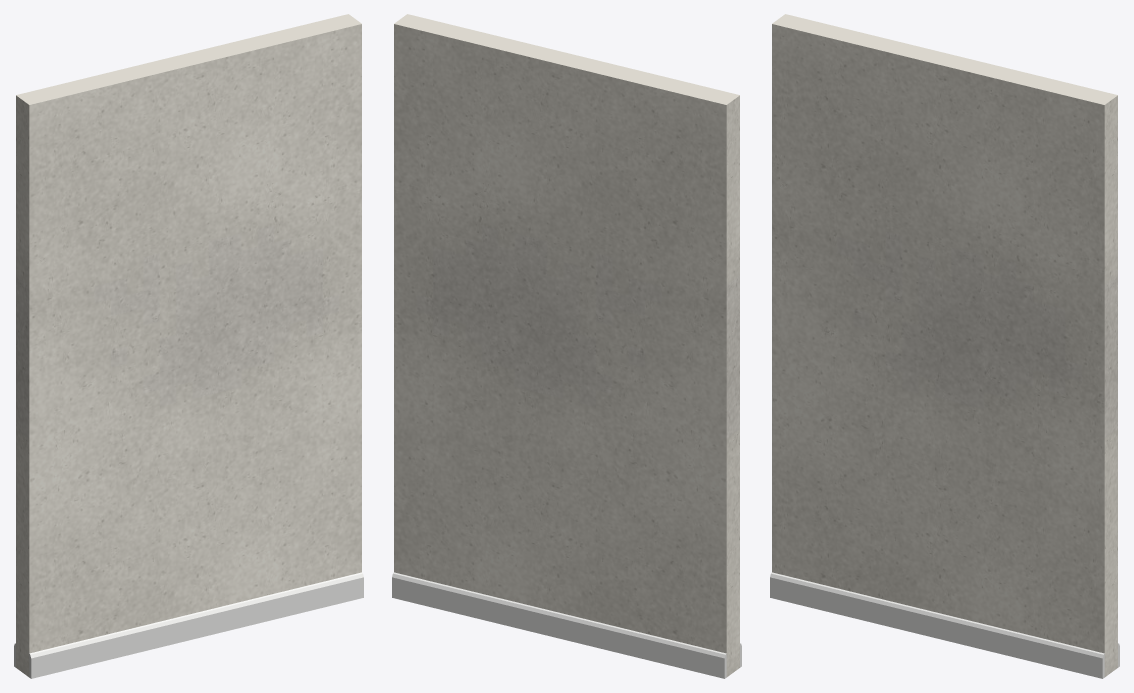
File: iw_end_plain.glb
The picture shows the model from 3 angles, left to right: view 1: azimuth 30°, elevation 25°; view 2: azimuth 150°, elevation 25°; view 3: azimuth 330°, elevation 25°; orthographic projection.
Visible parts, largest first — view 1: iw_end_plain_plaster, iw_end_plain_trim; view 2: iw_end_plain_plaster, iw_end_plain_trim; view 3: iw_end_plain_plaster, iw_end_plain_trim.
Part boxes in pixels (x1=…): iw_end_plain_plaster: x1=16, y1=14, x2=361, y2=677; iw_end_plain_trim: x1=14, y1=572, x2=363, y2=678; iw_end_plain_plaster: x1=394, y1=14, x2=739, y2=677; iw_end_plain_trim: x1=392, y1=572, x2=741, y2=678; iw_end_plain_plaster: x1=772, y1=14, x2=1117, y2=677; iw_end_plain_trim: x1=770, y1=572, x2=1119, y2=678.
Bounding box in the file's own units: 1.7 × 2.8 × 0.152.
2 materials, 1 textured.
